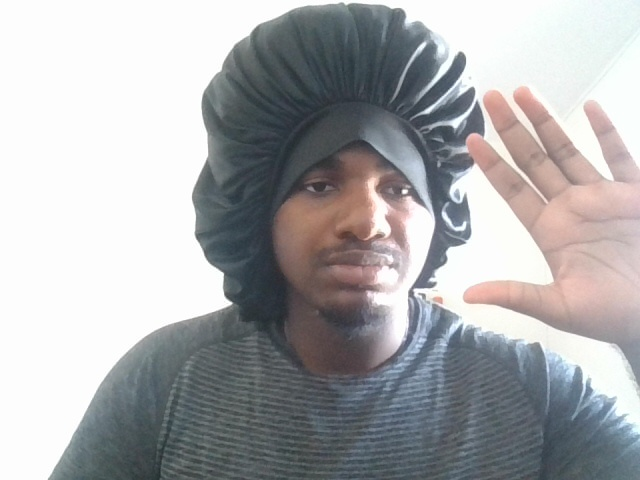Hello: (455, 76, 640, 368)
